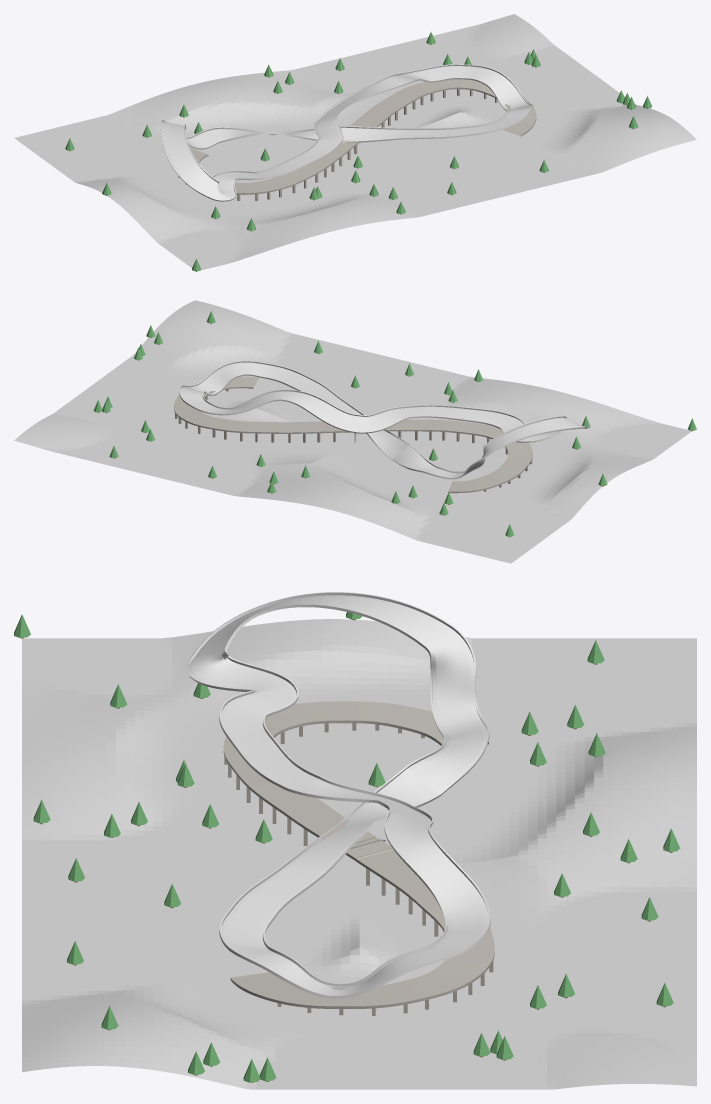
The picture shows the model from 3 angles, top to bottom: view 1: azimuth 30°, elevation 25°; view 2: azimuth 150°, elevation 25°; view 3: azimuth 270°, elevation 25°; orthographic projection. The views are drawn at different scales.
Visible parts, largest first — view 1: Terrain, Figure 8, Bridge Deck; view 2: Terrain, Figure 8, Bridge Deck; view 3: Terrain, Figure 8, Bridge Deck.
Part boxes in pixels (<box>): Terrain: <box>14,14,696,270</box>; Figure 8: <box>160,64,533,201</box>; Bridge Deck: <box>190,79,536,194</box>; Terrain: <box>14,300,691,563</box>; Figure 8: <box>179,360,588,479</box>; Bridge Deck: <box>173,376,532,493</box>; Terrain: <box>22,619,696,1089</box>; Figure 8: <box>186,592,490,998</box>; Bridge Deck: <box>223,701,494,1008</box>.
Bounding box in the file's own units: 384 × 42.96 × 243.
